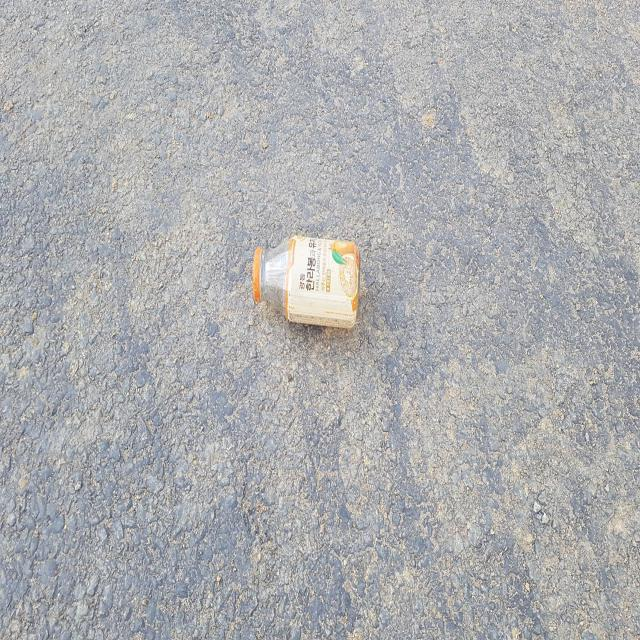glass: (253, 235, 360, 327)
